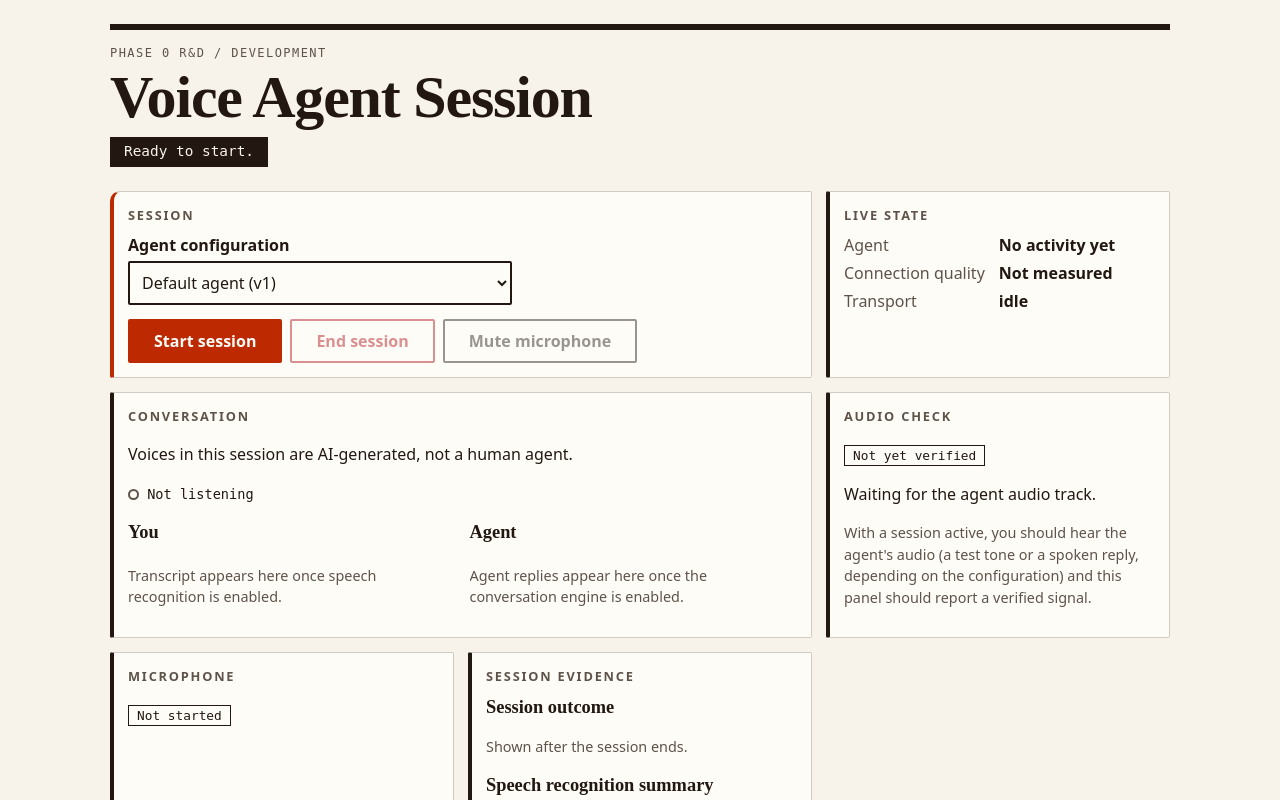
microphone release › shows a released state and stops the track when the user ends the session
Click the button "Start session". click: (205, 341)
box: [128,319,282,363]
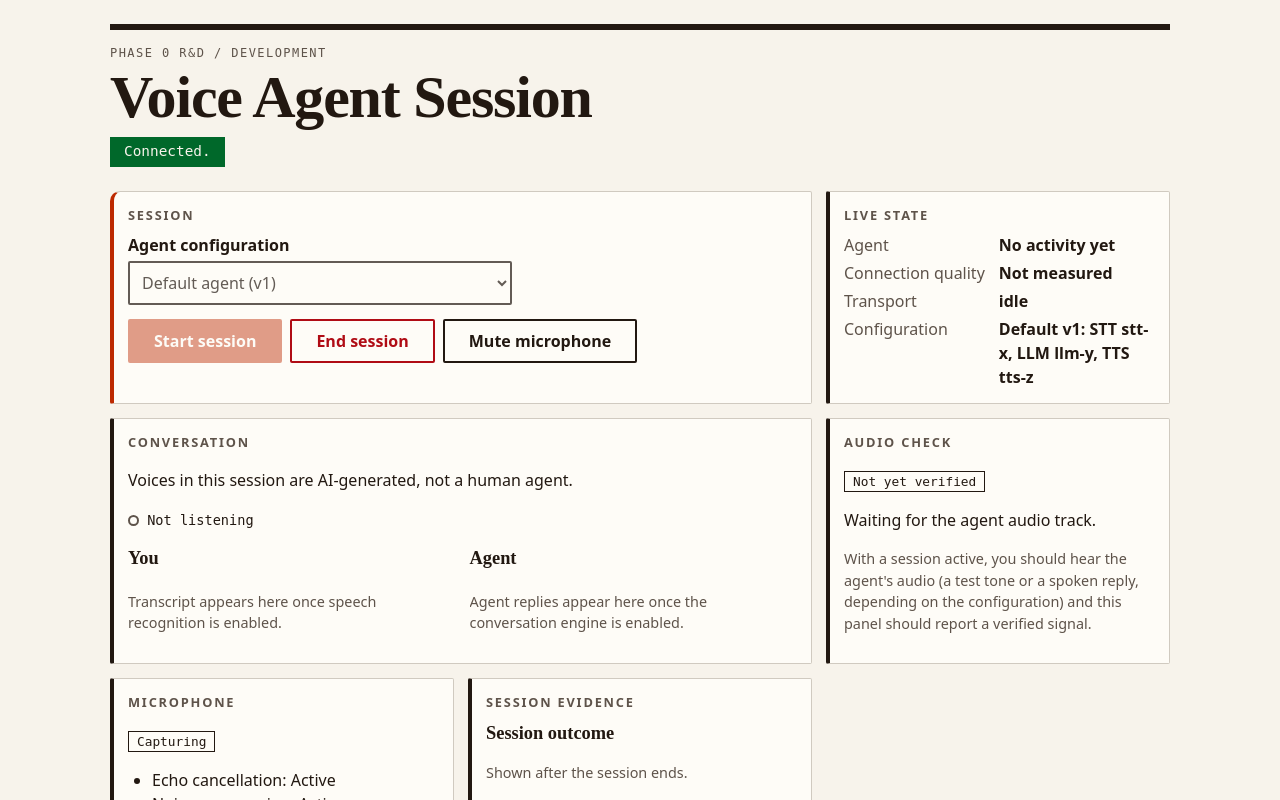
expect the message "Connected." is shown: met, box [110,137,225,167]
expect the text "Capturing" is shown: met, box [128,731,215,752]
Click the button "End session". click: (363, 341)
box: [290,319,435,363]
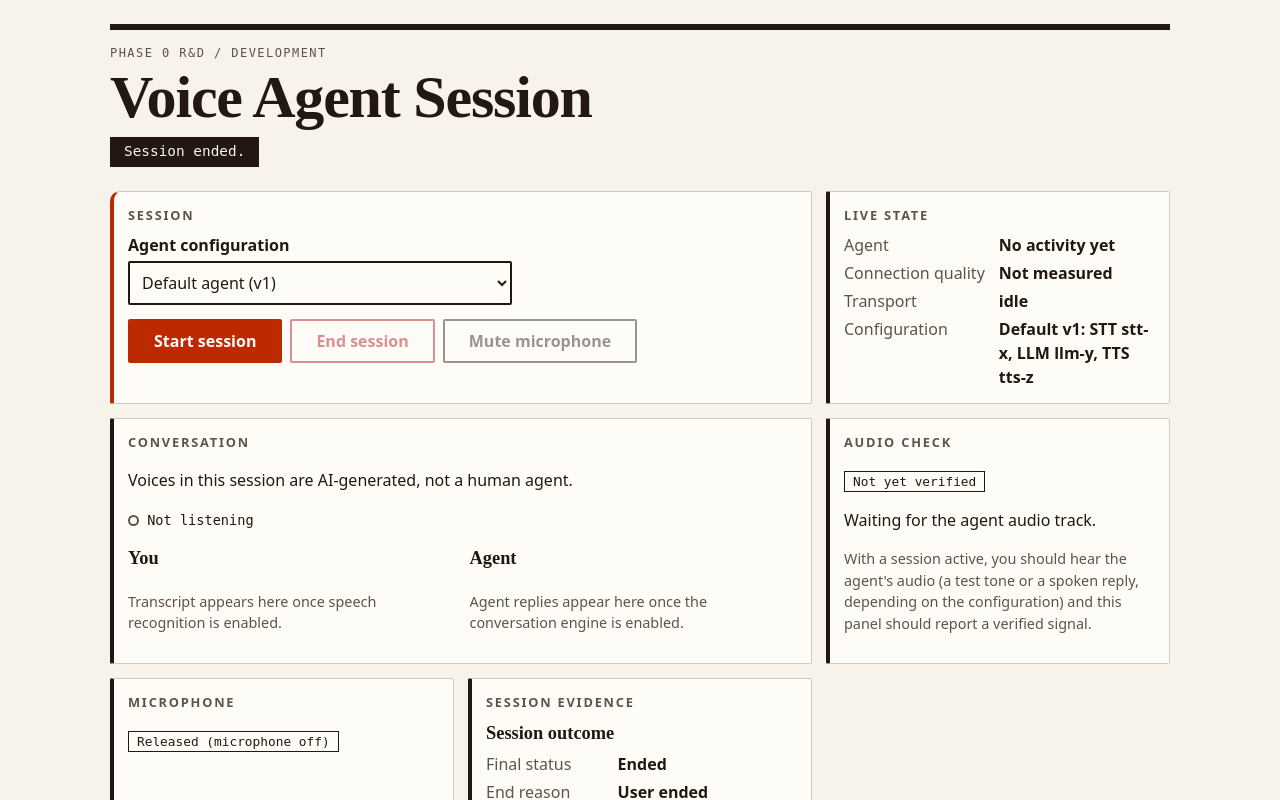
expect the text "Released (microphone off)" is shown: met, box [128,731,339,752]
expect the text "Capturing" is gone: met
